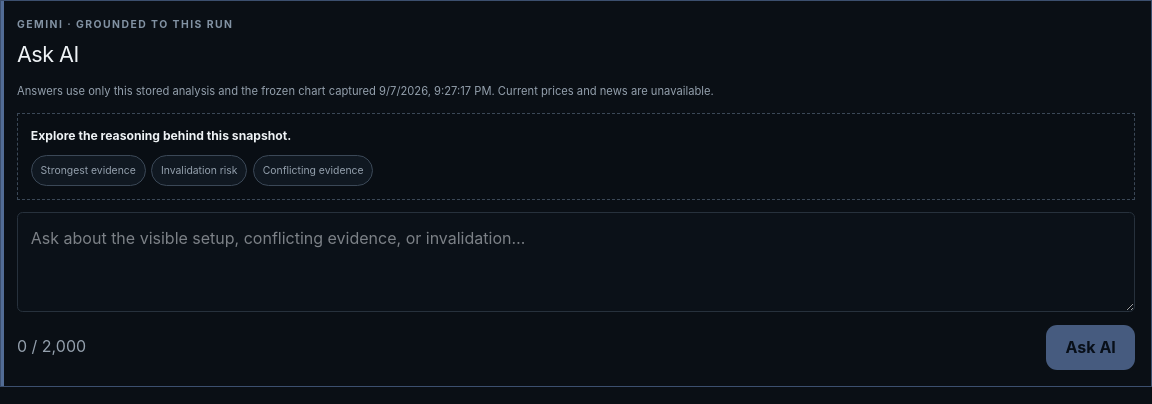
Test case: analysis chat › makes a grounded starter question ready to ask
What coordinates should you click on to do the following:
click the button "Strongest evidence"
I would click on:
 (88, 171)
Its box is x1=31 y1=155 x2=146 y2=186.
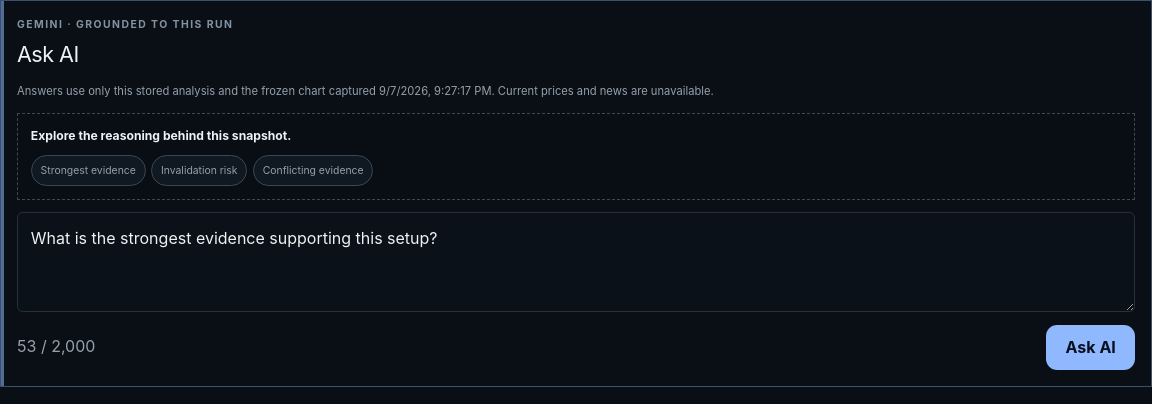
Expected: the text box named "Question about this analysis" holds "What is the strongest evidence supporting this setup?", x1=17 y1=212 x2=1135 y2=312
Expected: the button "Ask AI" is enabled, x1=1046 y1=325 x2=1135 y2=370
